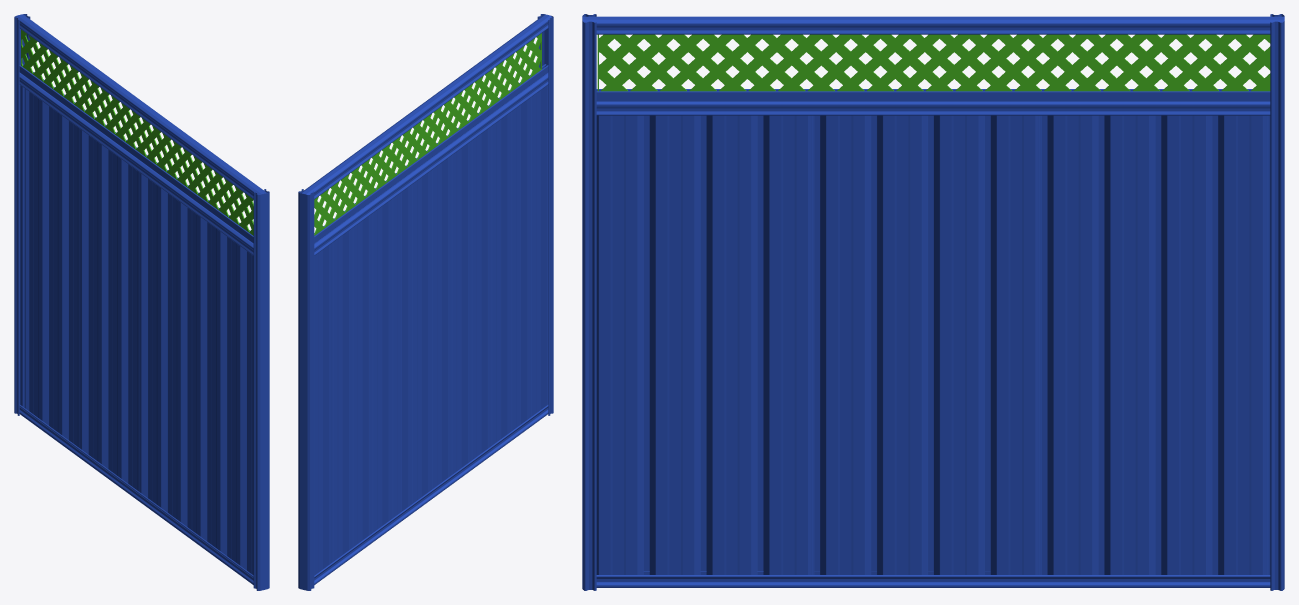
The model's file is STEPSUP.glb.
The picture shows the model from 3 angles, left to right: view 1: azimuth 30°, elevation 25°; view 2: azimuth 150°, elevation 25°; view 3: azimuth 270°, elevation 25°; orthographic projection. The views are drawn at different scales.
Parts seen in each view (by area): view 1: STEPSUP_18; view 2: STEPSUP_18; view 3: STEPSUP_18.
Part boxes in pixels (x1,y1,x2,y2): STEPSUP_18: (14,14,269,590); STEPSUP_18: (298,14,553,590); STEPSUP_18: (582,14,1284,590).
Bounding box in the file's own units: 0.07 × 2.1 × 2.35.
